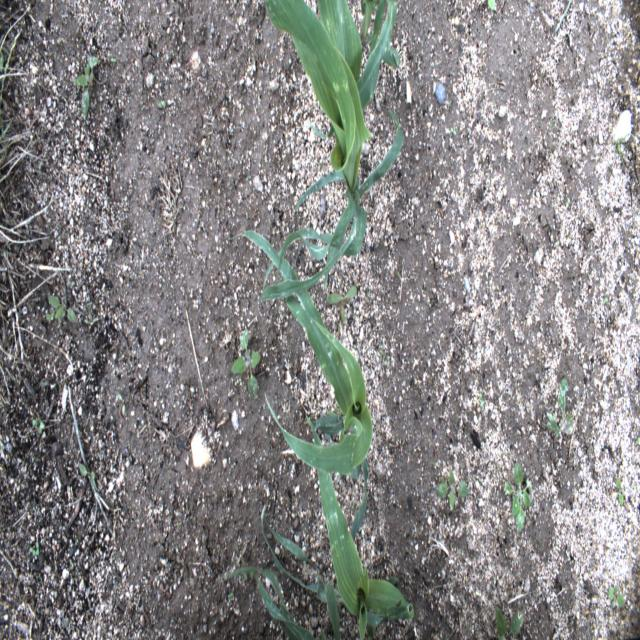crop: (258, 0, 403, 299), (260, 415, 416, 636), (246, 230, 373, 480), (221, 558, 316, 635)
weed: (505, 464, 537, 546), (233, 325, 261, 399), (544, 376, 575, 438), (73, 52, 98, 126), (436, 468, 470, 517), (329, 283, 364, 324), (46, 290, 80, 329), (492, 605, 530, 634), (610, 465, 628, 520), (606, 580, 628, 612), (76, 460, 102, 486), (28, 540, 43, 565), (30, 414, 47, 436)
